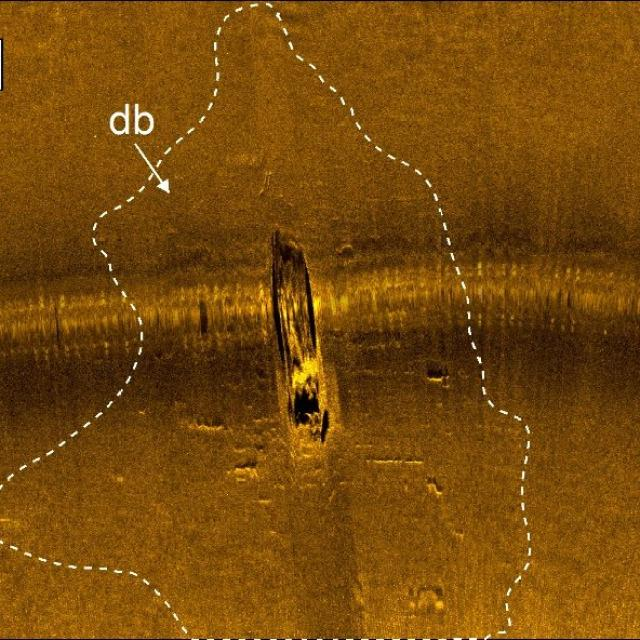ship: (262, 231, 342, 450)
